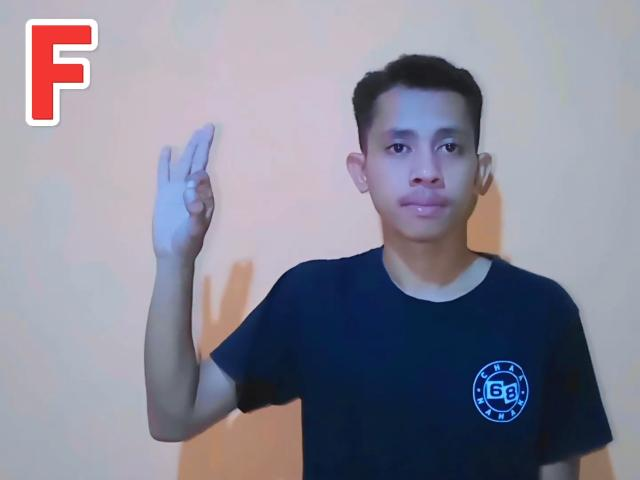F: (150, 121, 220, 260)
